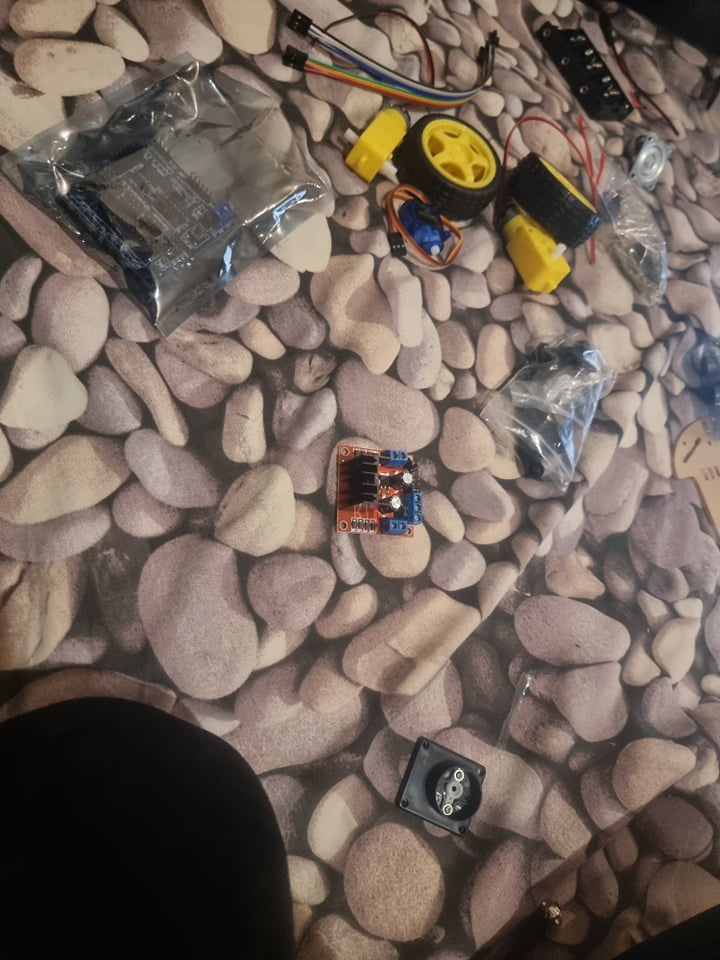BATTERY BOX: (542, 15, 635, 123)
MOTOR: (333, 440, 424, 543)
